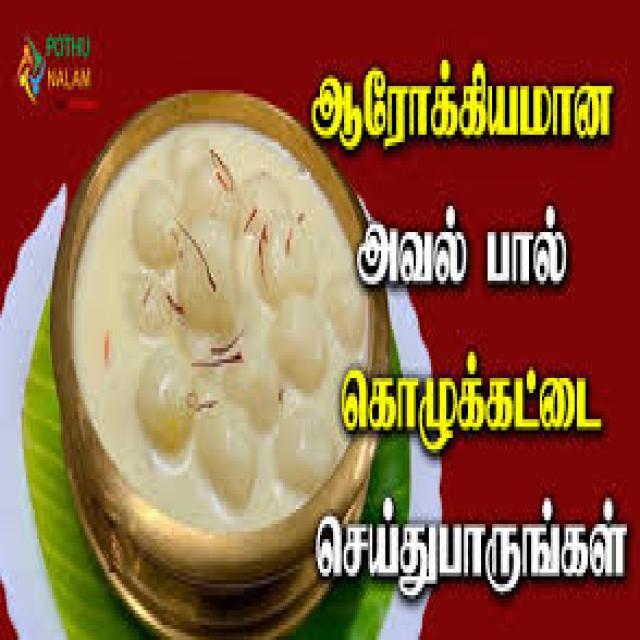paal kolukattai: (94, 123, 337, 518)
